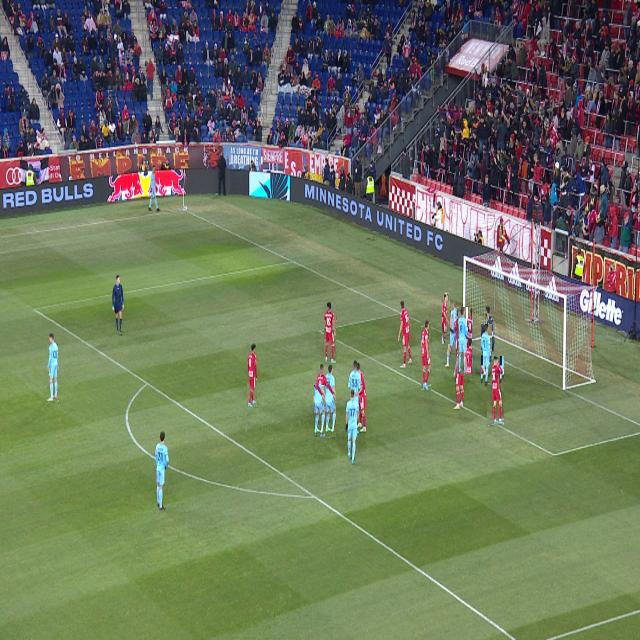football: (183, 206, 187, 212)
goalkeeper: (485, 307, 495, 369)
player: (314, 365, 336, 437), (155, 431, 169, 510), (488, 357, 504, 425), (345, 389, 359, 464), (398, 301, 412, 368), (453, 338, 466, 410), (459, 307, 472, 374), (444, 301, 457, 367), (355, 363, 366, 432), (421, 321, 431, 390), (48, 334, 58, 402), (325, 302, 336, 363), (481, 325, 492, 385), (348, 360, 361, 408), (248, 344, 257, 407), (314, 385, 325, 434), (454, 308, 464, 357), (313, 366, 325, 404), (442, 292, 450, 344), (490, 374, 493, 384), (357, 430, 359, 434)
referee: (112, 275, 124, 335)
